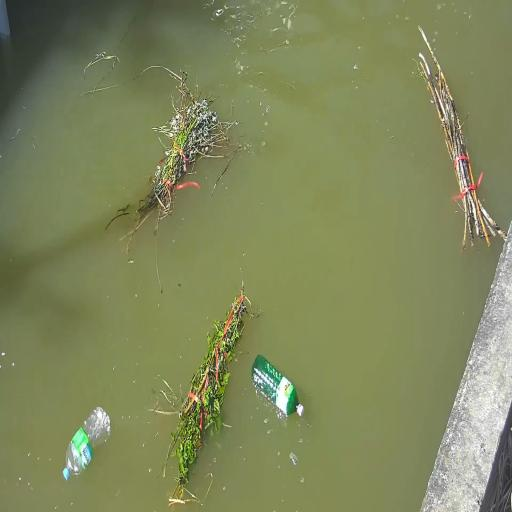plastic: (57, 406, 117, 486), (248, 353, 302, 424)
twig: (413, 24, 502, 246), (156, 300, 247, 498), (137, 78, 222, 225)
